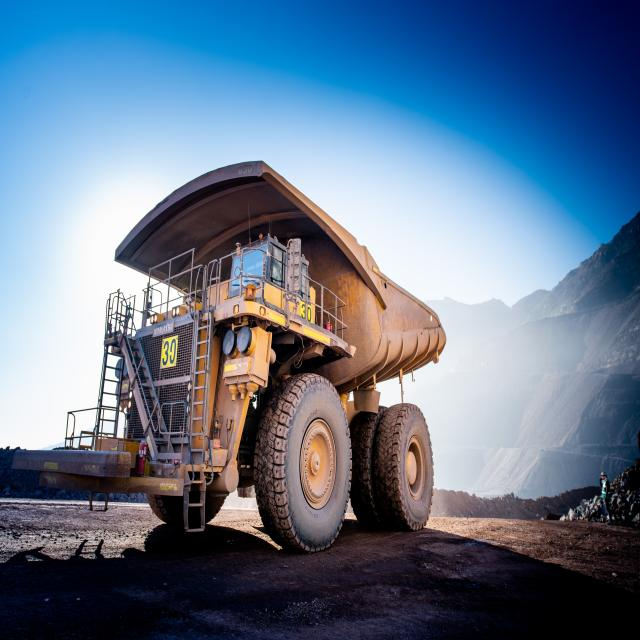dump_truck: (12, 152, 448, 563)
